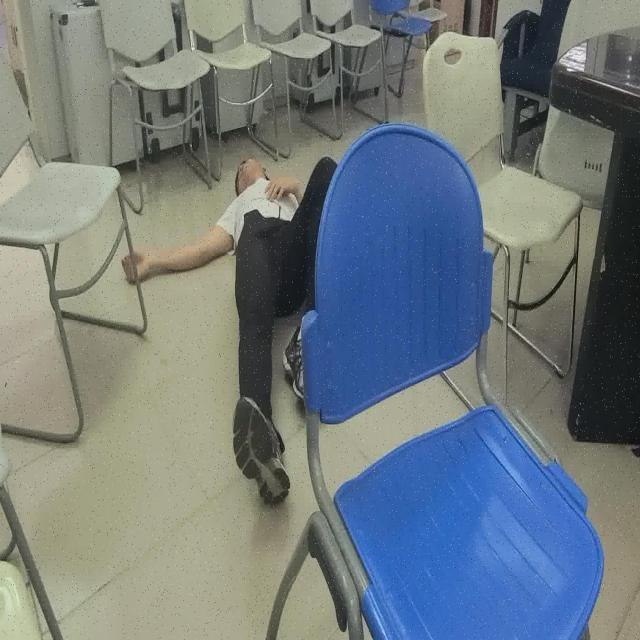fall: (120, 153, 344, 517)
